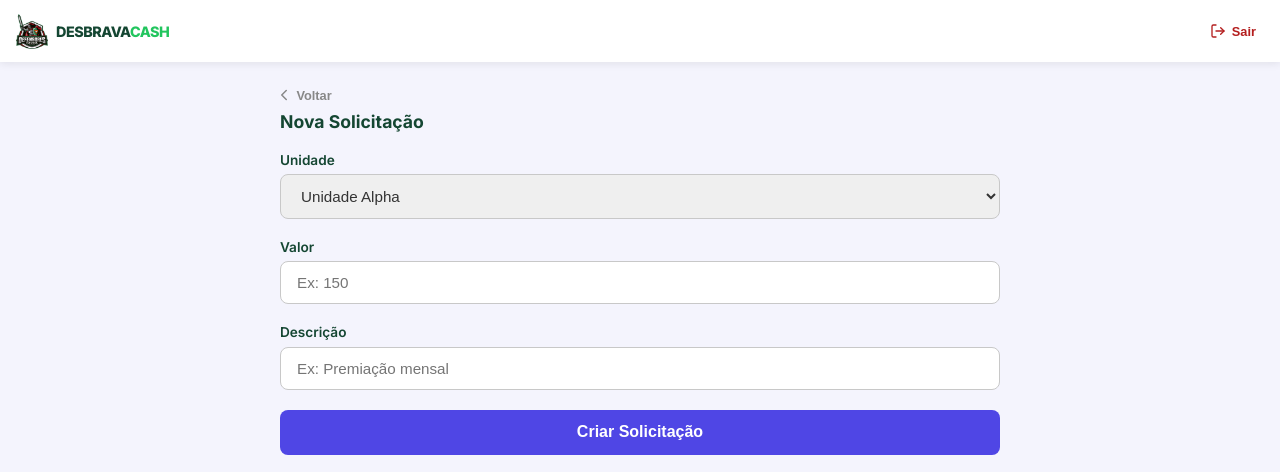
NovaTransacaoPage › desabilita o botão enquanto está enviando
The image size is (1280, 472).
Type "50" into the number field labelled "Valor" at (640, 283), box [280,261,1000,304]
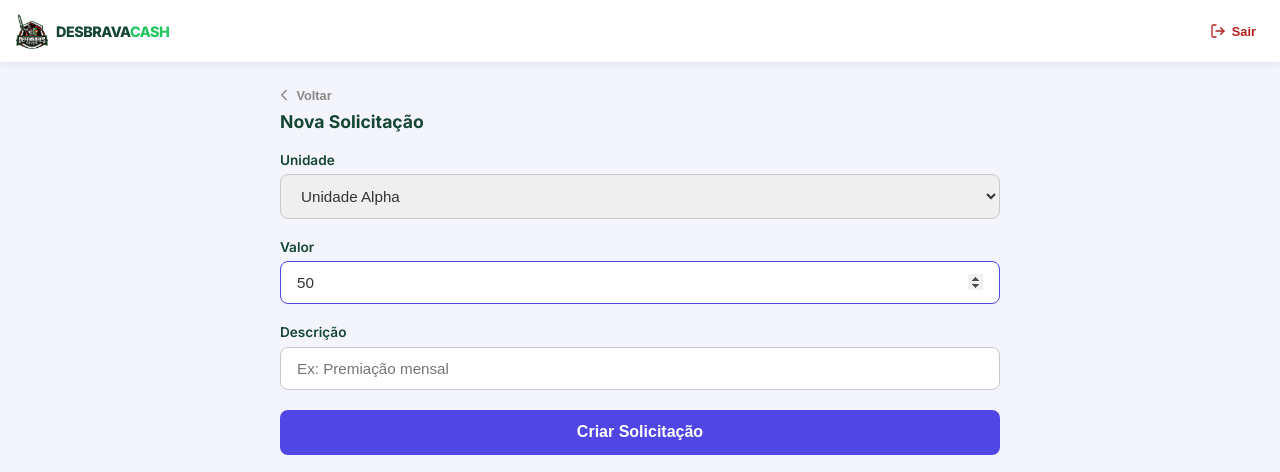
Type "Teste" into the field labelled "Descrição" at (640, 368), box [280,347,1000,390]
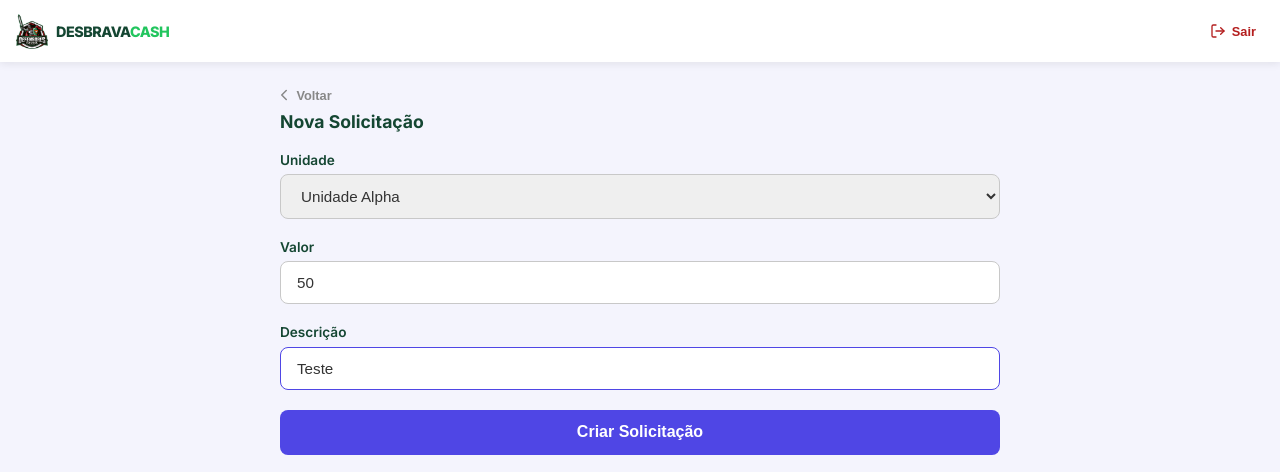
Click the button "Criar Solicitação" at (640, 432), box [280,410,1000,455]
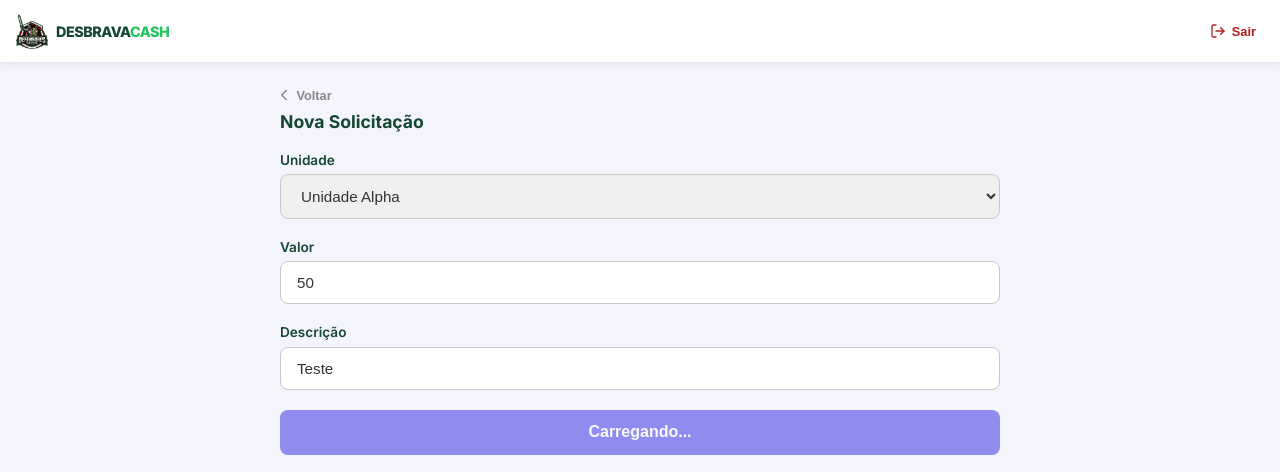
Check: the button "Carregando..." is disabled, box [280,410,1000,455]
